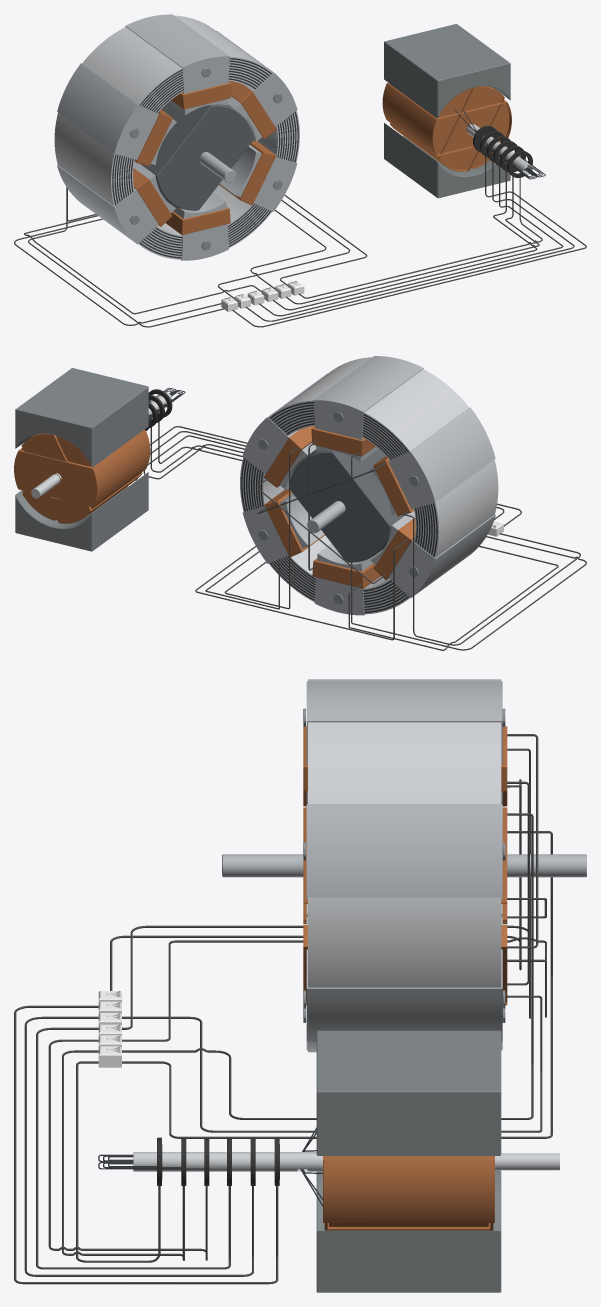
The model's file is 3fazni motor-animacije.glb.
3 renders of one model, top to bottom at view 1: azimuth 30°, elevation 25°; view 2: azimuth 150°, elevation 25°; view 3: azimuth 270°, elevation 25°, orthographic. The views are drawn at different scales.
Parts seen in each view (by area): view 1: Tube19, Box01, Line12, Tube32, Tube25, Tube20, Tube02, Tube33, Tube24, Tube34, Tube22, Tube23 (+11 smaller); view 2: Tube19, Box01, Tube32, Line12, Tube25, Tube20, Tube34, Tube02, Tube24, Tube22, Tube23, Tube21 (+11 smaller); view 3: Box01, Tube19, Line12, Tube21, Tube34, Tube22, Tube20, Tube19.001, Cylinder13, Empty, Tube33, Tube02.001 (+1 smaller).
Part boxes in pixels (x1,y1,x2,y2): Tube19: (54, 15, 472, 259); Box01: (384, 24, 510, 198); Line12: (14, 156, 586, 327); Tube32: (141, 103, 253, 210); Tube25: (57, 63, 176, 164); Tube20: (125, 14, 229, 114); Tube02: (112, 58, 537, 258); Tube33: (389, 84, 509, 169); Tube24: (57, 161, 175, 244); Tube34: (382, 82, 511, 156); Tube22: (219, 145, 297, 211); Tube23: (164, 192, 228, 260); Tube19: (240, 357, 498, 614); Box01: (15, 368, 148, 551); Tube32: (290, 449, 406, 562); Line12: (136, 421, 586, 650); Tube25: (369, 407, 495, 514); Tube20: (313, 356, 423, 461); Tube34: (14, 430, 150, 507); Tube02: (169, 388, 437, 612); Tube24: (370, 511, 495, 597); Tube22: (242, 493, 324, 563); Tube23: (314, 543, 382, 615); Tube21: (242, 373, 327, 489); Box01: (316, 1030, 501, 1292); Tube19: (297, 679, 501, 1171); Line12: (14, 734, 552, 1284); Tube21: (306, 804, 502, 898); Tube34: (323, 1156, 494, 1222); Tube22: (306, 917, 502, 1041); Tube20: (306, 681, 502, 801); Tube19.001: (133, 1152, 559, 1171); Cylinder13: (222, 854, 586, 877); Empty: (181, 1137, 279, 1185); Tube33: (329, 1156, 488, 1226); Tube02.001: (98, 1127, 322, 1206).
Bounding box in the file's own units: 9.94 × 4.29 × 6.54.
